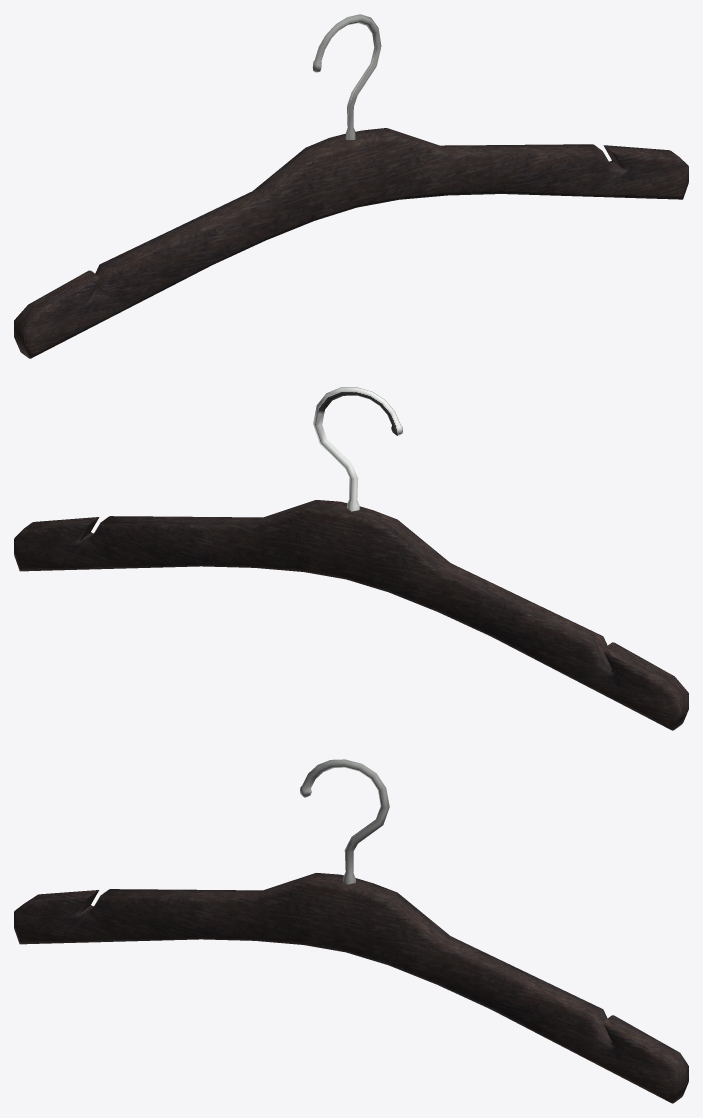
Rendered from coathanger.obj.
3 views of the same model, one above another, from view 1: azimuth 30°, elevation 25°; view 2: azimuth 150°, elevation 25°; view 3: azimuth 330°, elevation 25° (orthographic).
Parts seen in each view (by area): view 1: wood, submesh_0; view 2: wood, submesh_0; view 3: wood, submesh_0.
Boxes of the visible parts, x1,y1,x2,y2 form: wood: (14, 128, 688, 358); submesh_0: (312, 14, 381, 139); wood: (14, 500, 688, 730); submesh_0: (313, 387, 402, 511); wood: (14, 873, 688, 1103); submesh_0: (300, 759, 389, 884).
Bounding box in the file's own units: 7.41 × 2.77 × 0.299.
2 materials, 2 textured.
